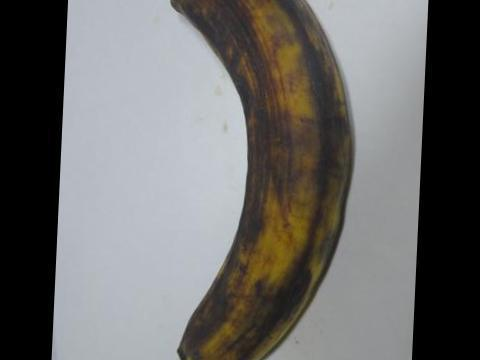overripe: (131, 0, 355, 359)
